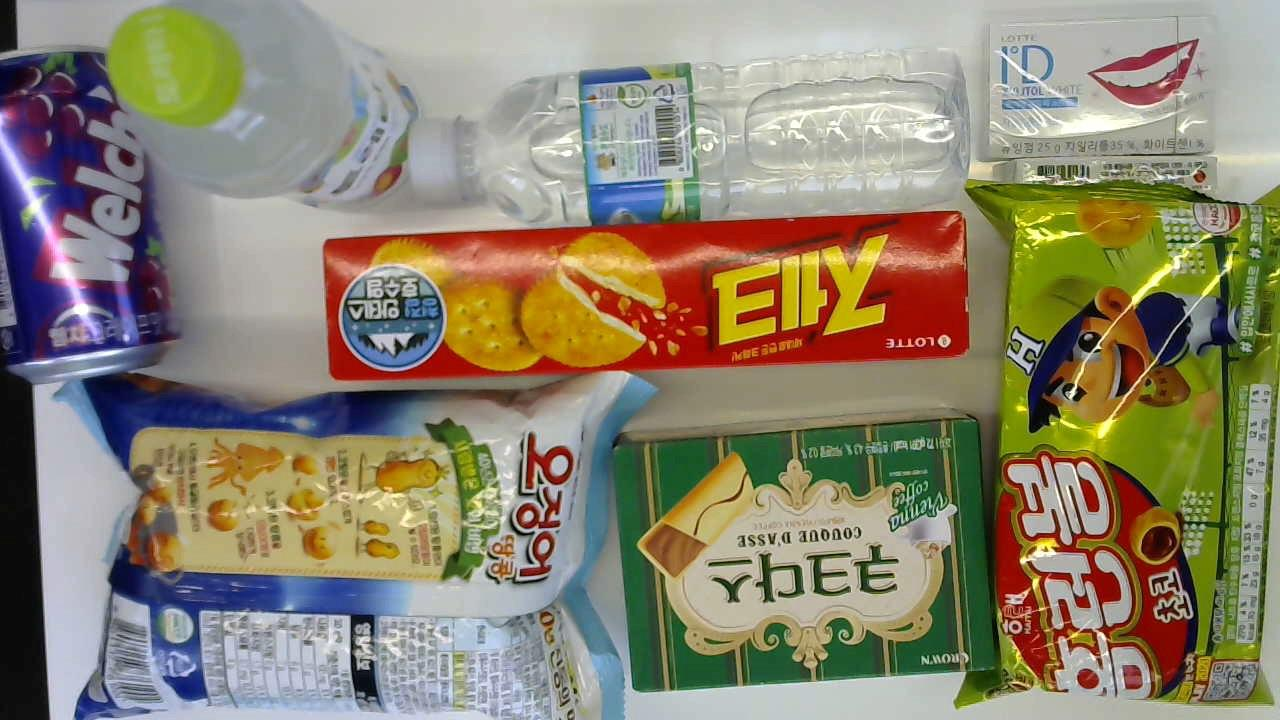ID_gum: (985, 17, 1221, 155)
couque_coffee: (604, 418, 994, 688)
homerunball: (985, 195, 1270, 706)
juicyfresh: (61, 379, 643, 720)
samdasu: (407, 48, 976, 227)
spearmint: (993, 156, 1232, 191)
toreta: (104, 0, 424, 212)
welchs: (0, 43, 177, 385)
zec: (321, 230, 979, 373)
